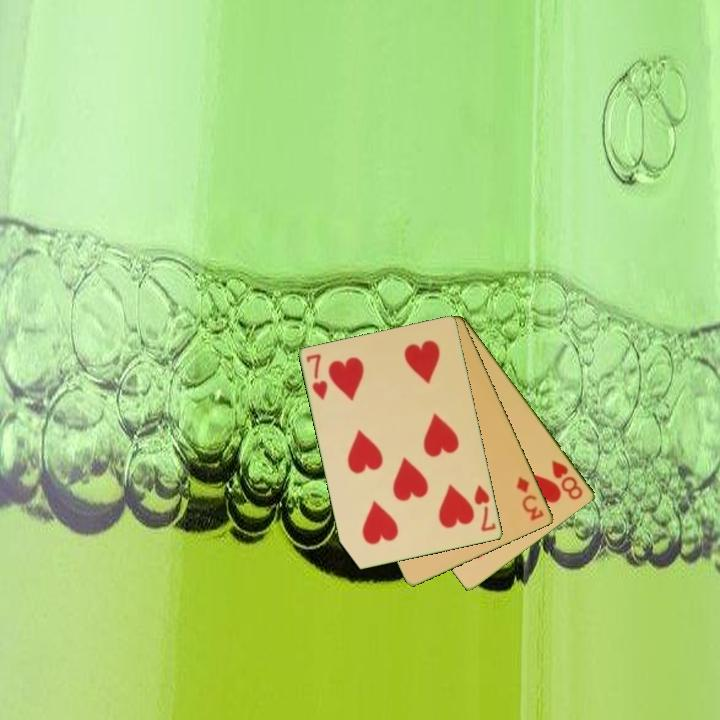3d: (513, 474, 547, 524)
7h: (471, 482, 499, 535), (303, 350, 331, 403)
8h: (548, 457, 586, 503)
